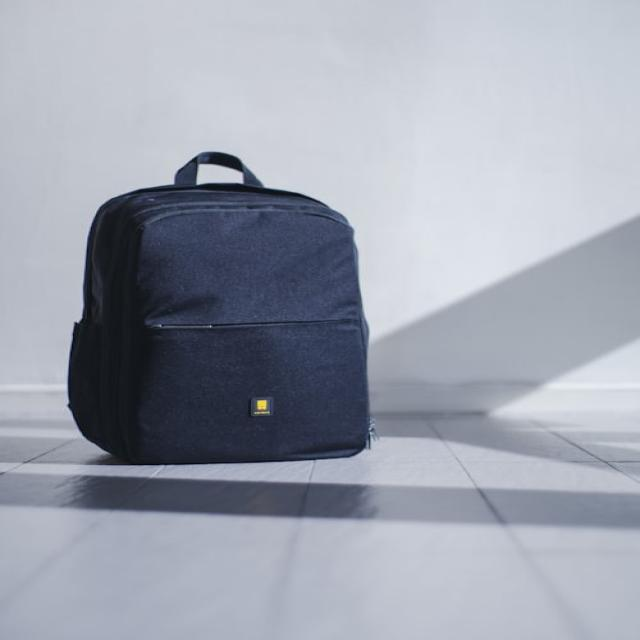backpack: (66, 151, 376, 466)
